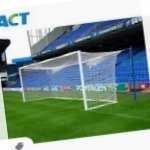goals: (15, 47, 119, 112)
